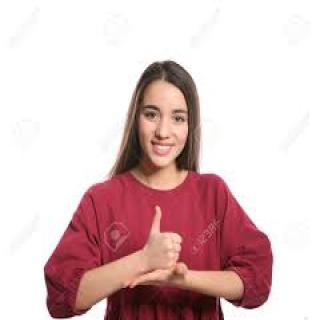Help: (130, 201, 206, 294)
